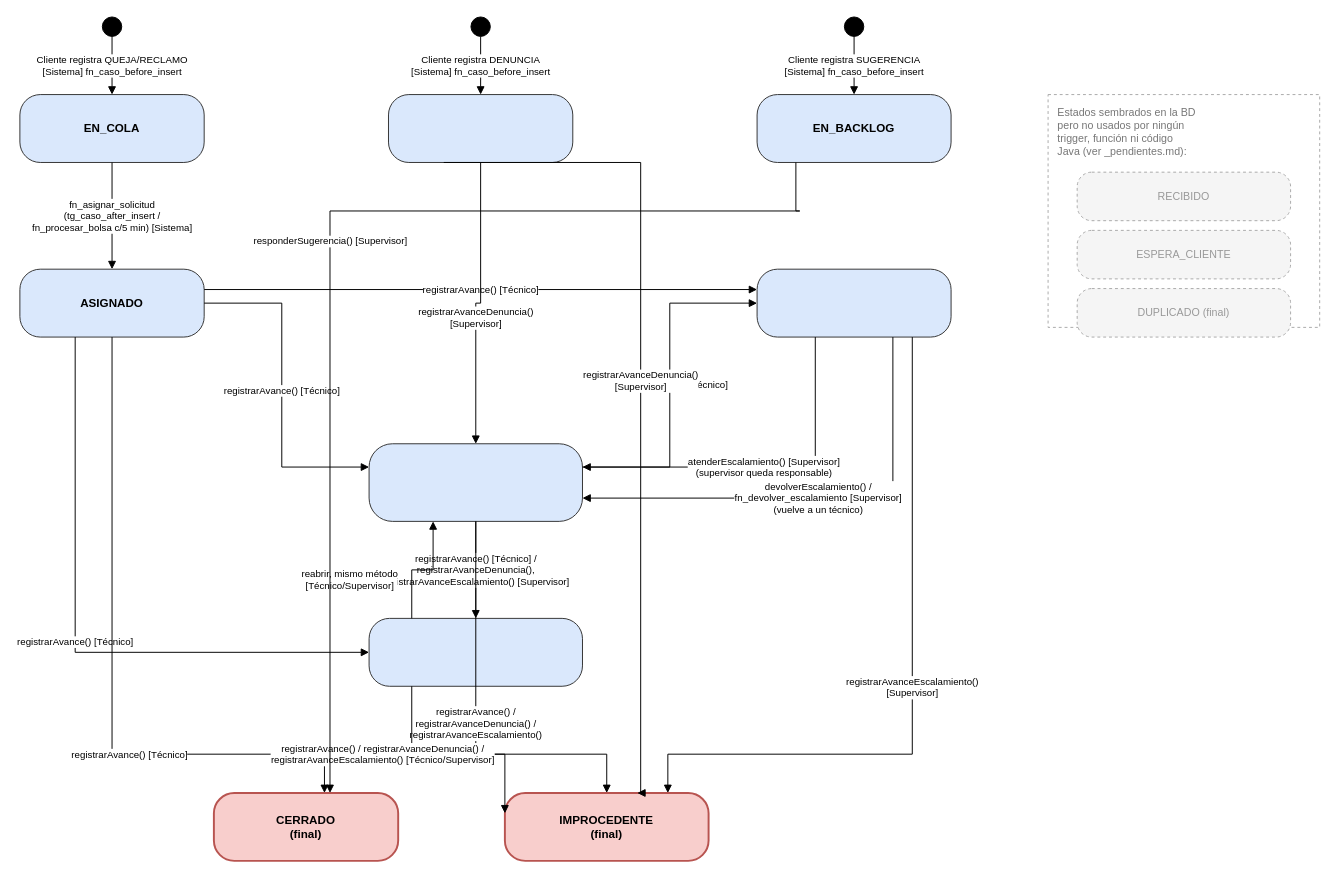
The diagram is 1337 pixels wide and 879 high, and some of its shapes have lost their labels. The shapes that lost their labels are listed below. From the top down, each one's box as (x1, y1, x2, y2) in pixels, then its label:
(388, 94, 573, 162): EN_REVISION
(756, 268, 951, 337): ESCALADO
(368, 443, 582, 521): EN_PROCESO
(368, 617, 582, 686): RESUELTO (es_final = false)
